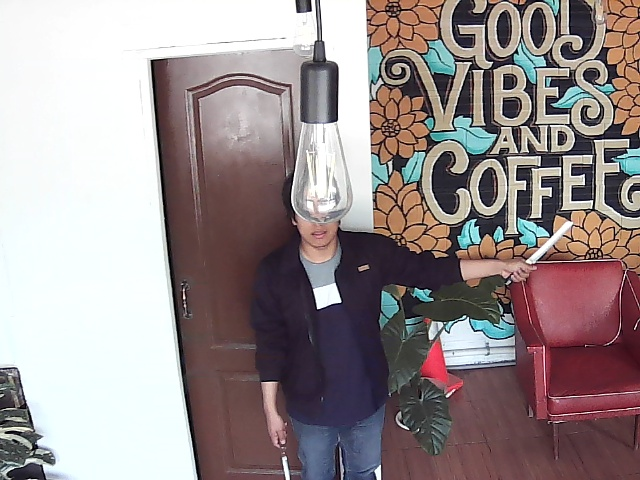cuchillo: (500, 217, 575, 292)
